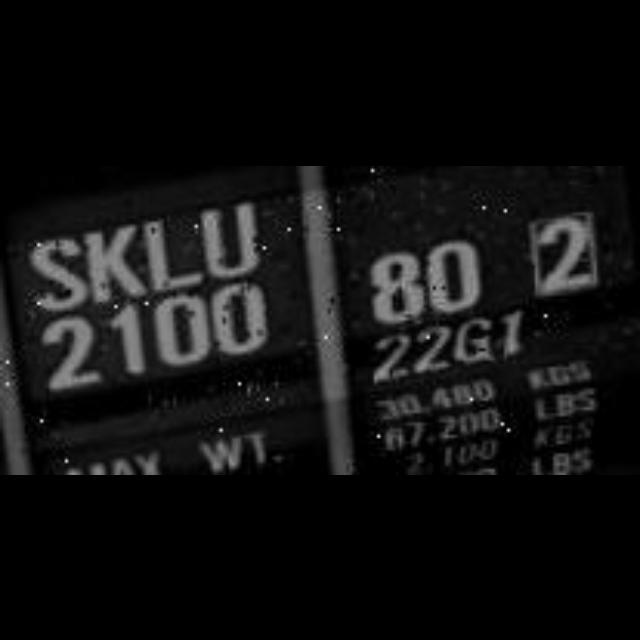0: (149, 288, 215, 370), (424, 234, 482, 314), (212, 280, 272, 356), (400, 386, 422, 420), (459, 408, 481, 440), (478, 404, 499, 436), (473, 373, 492, 403)
1: (109, 298, 151, 382), (498, 304, 526, 361)
2: (526, 210, 598, 296), (40, 314, 108, 394), (372, 330, 412, 384), (414, 320, 450, 376), (437, 412, 459, 446)
3: (375, 393, 401, 425)
4: (428, 381, 452, 415)
7: (406, 418, 424, 448)
8: (364, 244, 426, 324), (452, 377, 473, 409)
b: (554, 388, 574, 422), (550, 446, 572, 474)
g: (452, 311, 496, 367), (378, 422, 404, 454), (550, 358, 572, 394)
k: (85, 219, 149, 301), (525, 365, 549, 395)
l: (142, 211, 204, 291), (528, 394, 552, 426)
s: (23, 228, 93, 310), (570, 349, 594, 387), (576, 382, 598, 420), (570, 442, 592, 474)
t: (242, 426, 276, 469)
u: (200, 200, 262, 278)
w: (198, 418, 244, 474)
